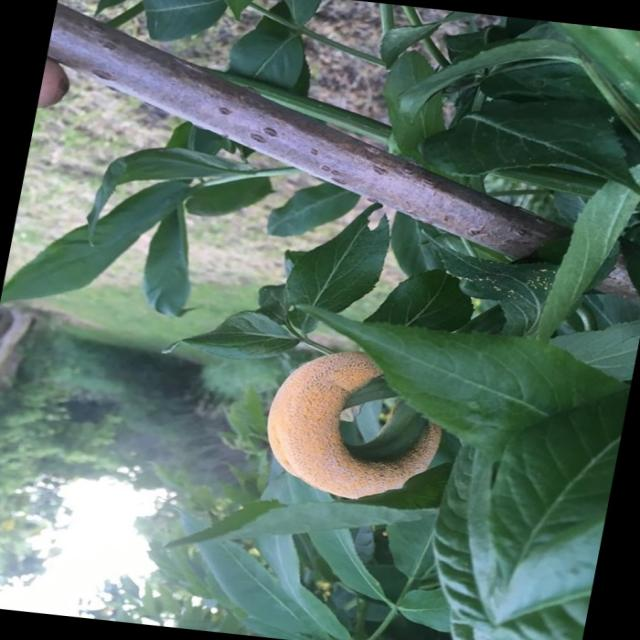Elderberry_rust: (201, 302, 525, 515)
